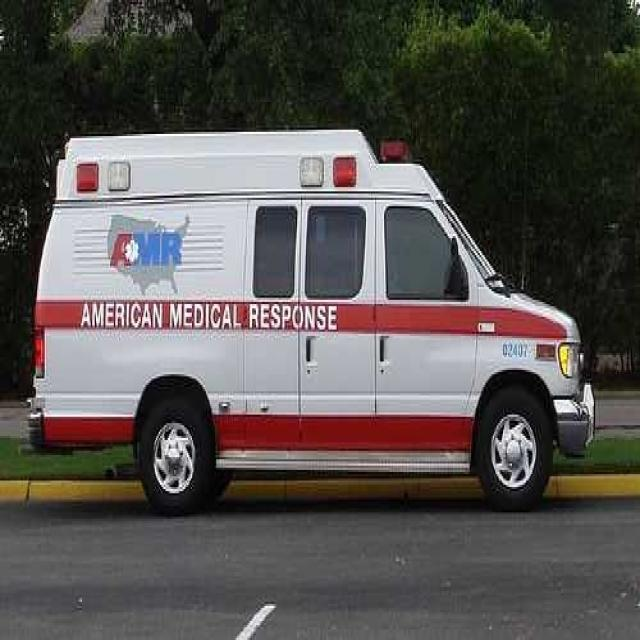ambulance: (28, 96, 608, 542)
